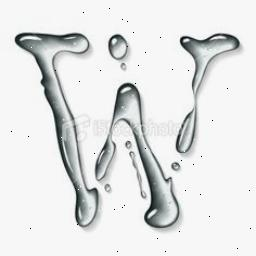w: (10, 24, 246, 236)
